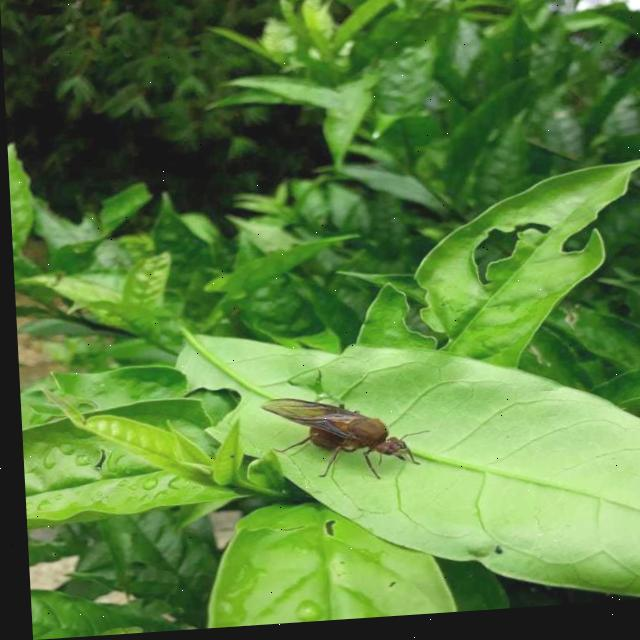Alive-Female-Alate: (255, 394, 429, 491)
